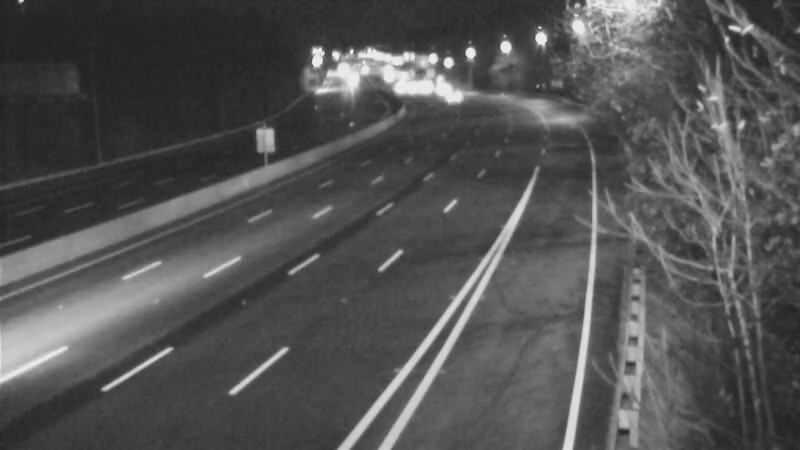vehicle: (417, 61, 467, 111), (431, 71, 481, 121)
